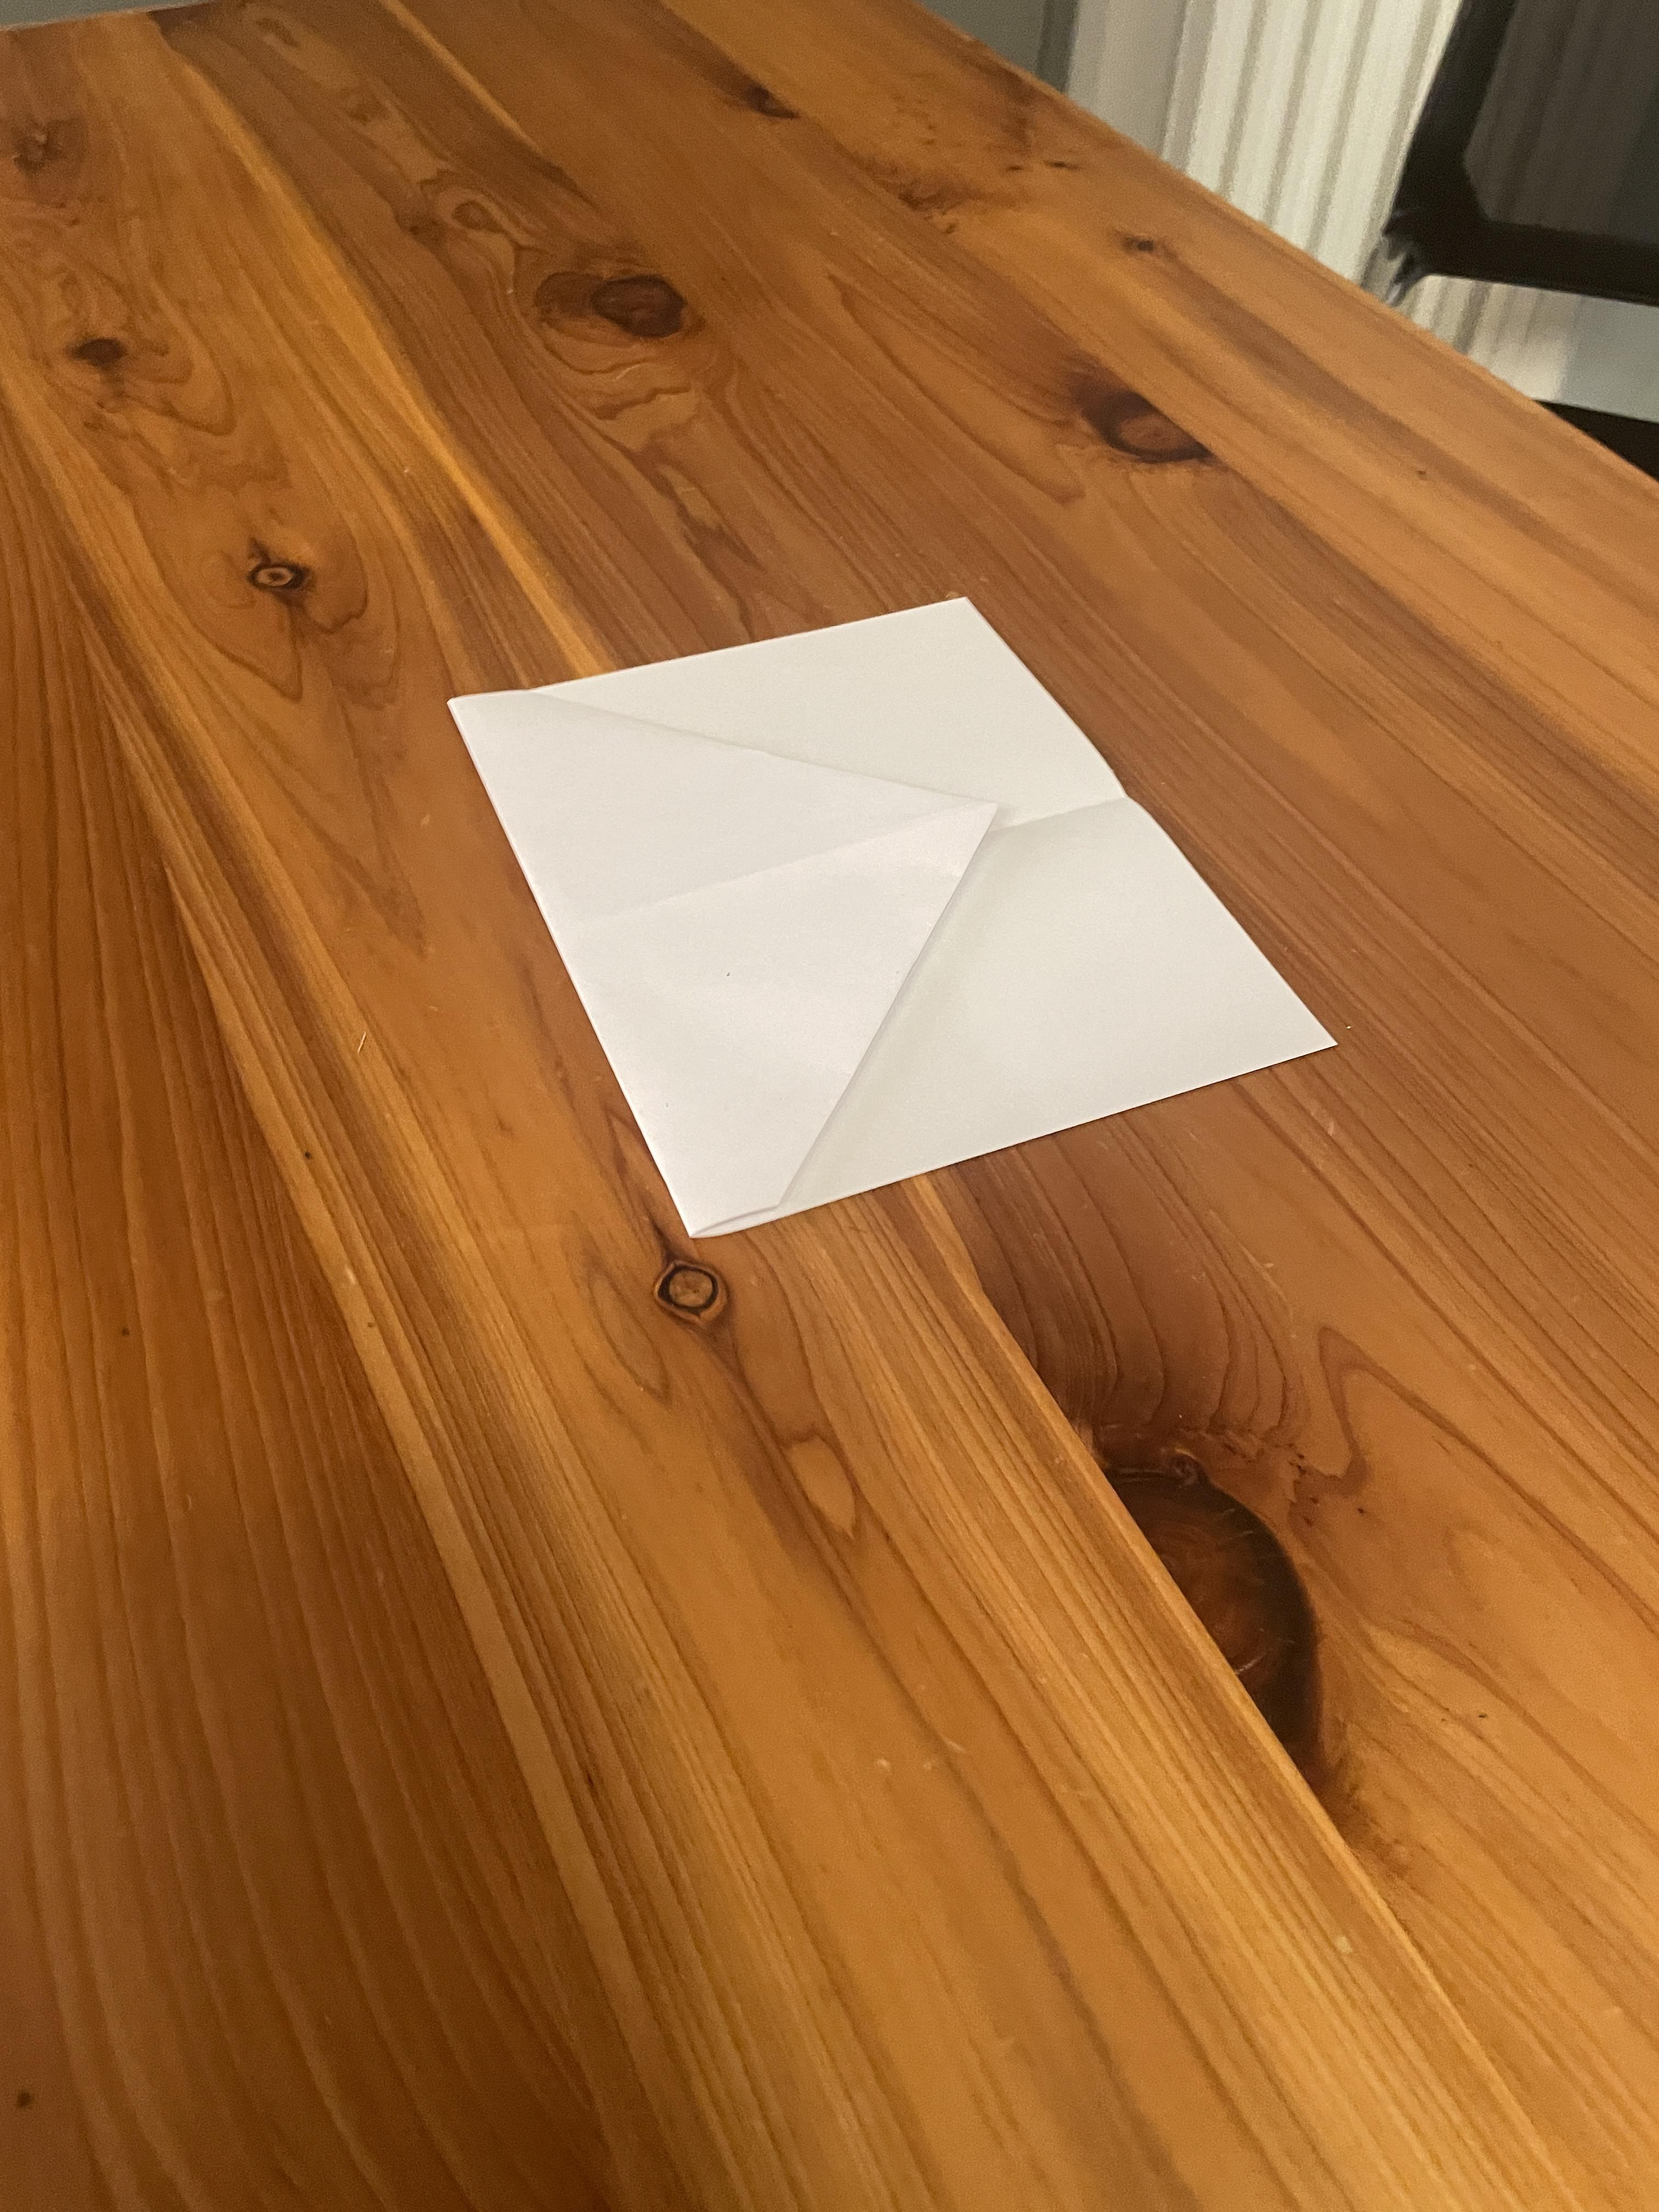shape_1: (411, 550, 1399, 1278)
